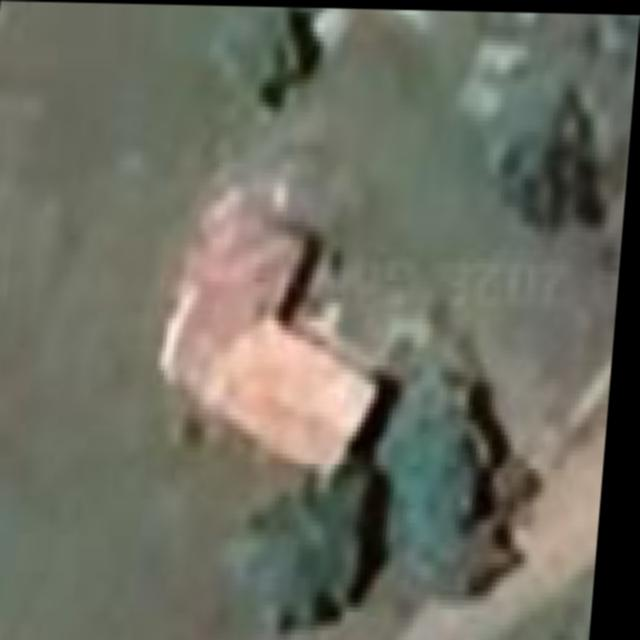Batiment: (169, 188, 380, 460)
